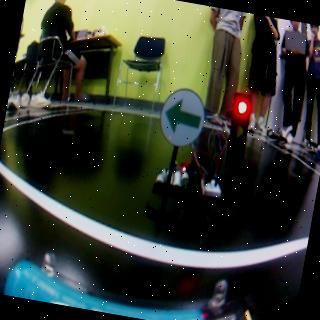left: (158, 92, 206, 147)
red: (212, 95, 255, 225)
